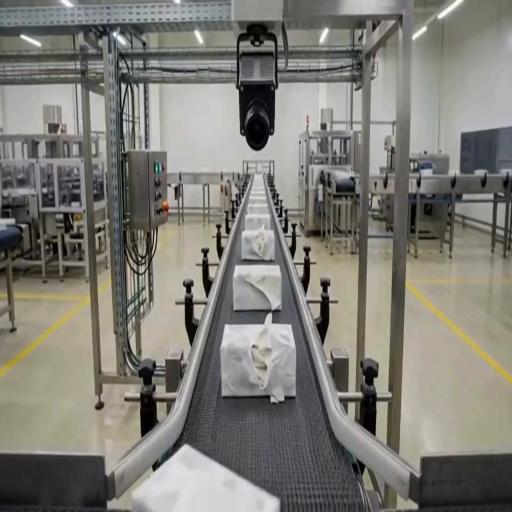defective: (220, 320, 298, 395), (232, 264, 283, 312), (241, 228, 275, 260)
good: (245, 212, 271, 230), (247, 203, 270, 215), (249, 196, 266, 201)
